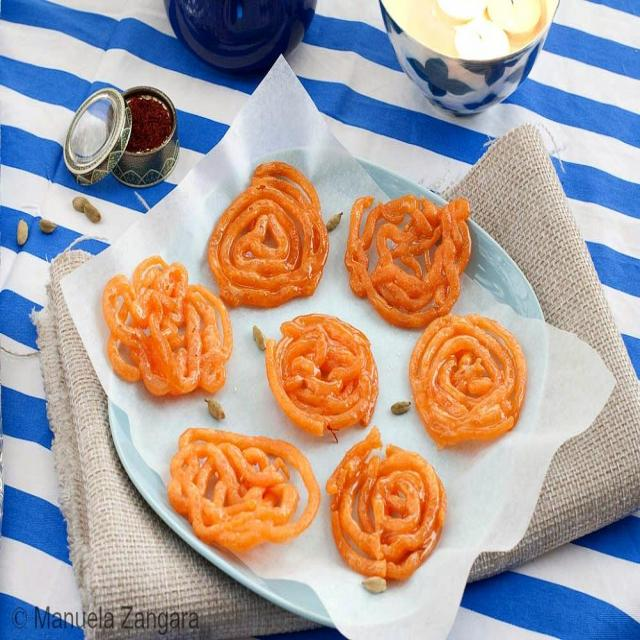jalebi: (119, 254, 234, 408), (179, 419, 321, 541), (352, 185, 474, 320), (332, 440, 442, 589), (408, 324, 543, 436), (269, 310, 381, 437), (214, 185, 330, 301)
